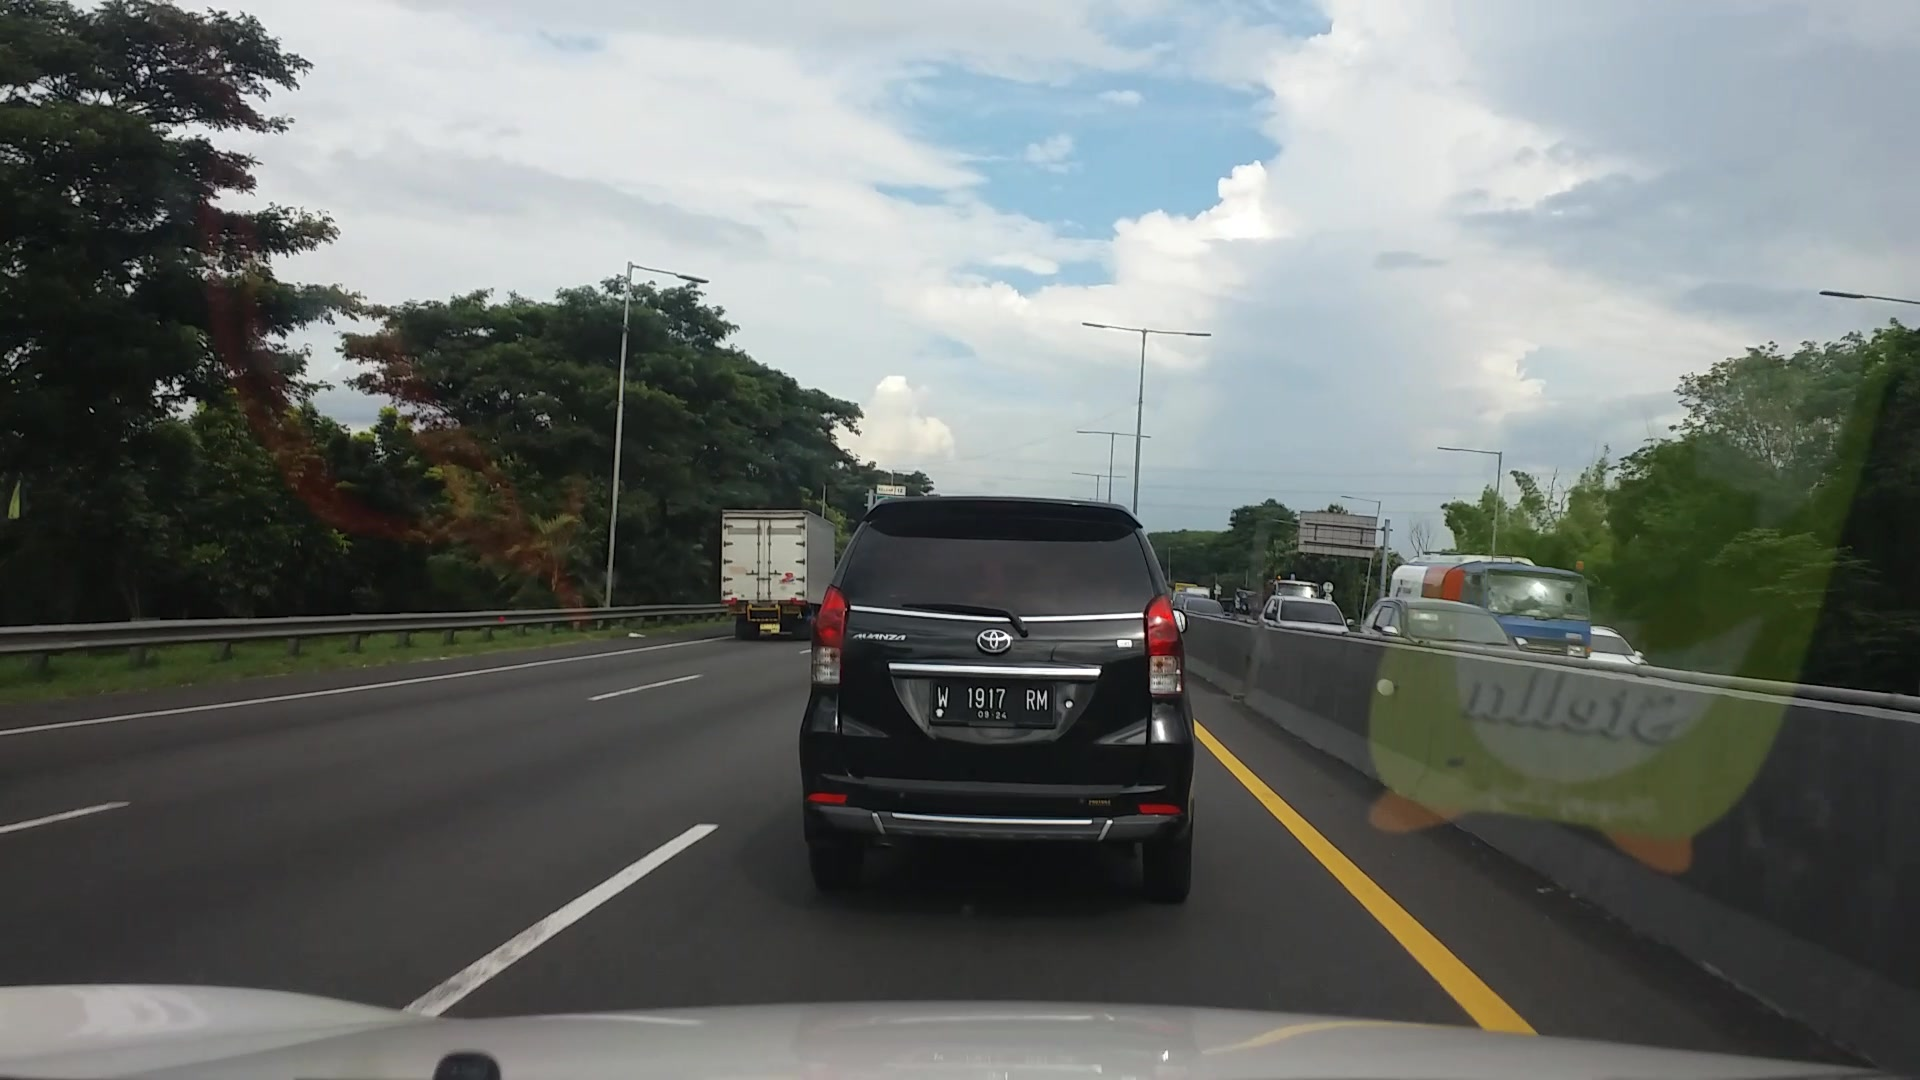plate_positive: (928, 678, 1055, 729)
